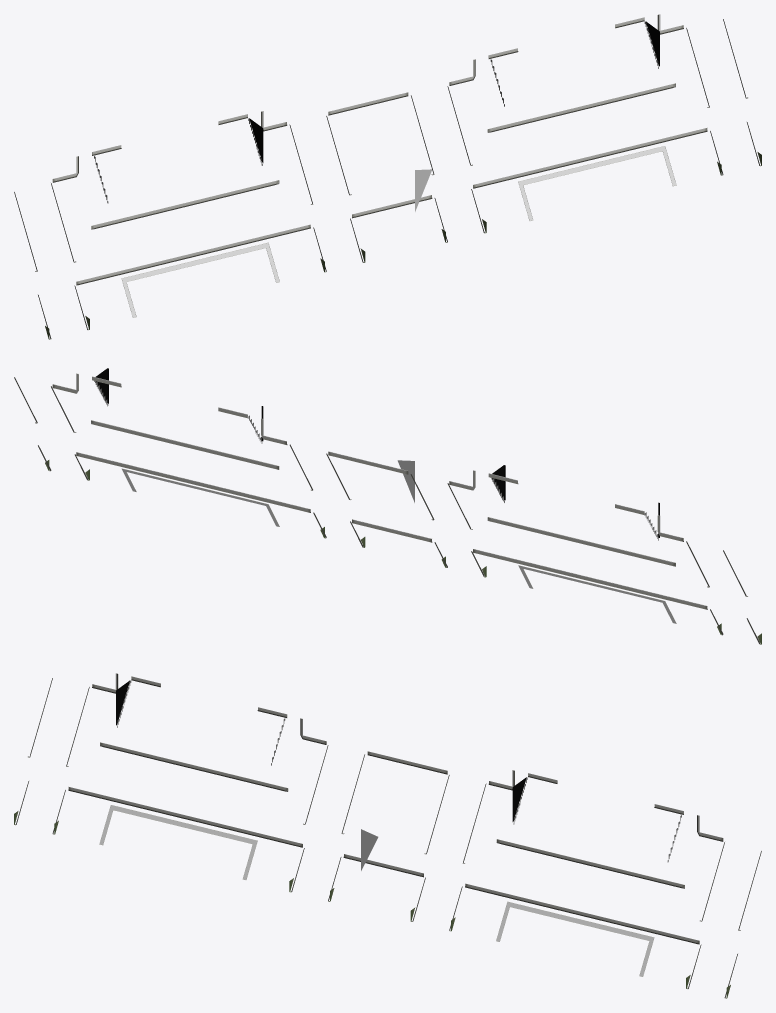
File: SM_000563_merge_concrete01_2.fbx
The picture shows the model from 3 angles, top to bottom: view 1: azimuth 30°, elevation 25°; view 2: azimuth 150°, elevation 25°; view 3: azimuth 330°, elevation 25°; orthographic projection.
Parts seen in each view (by area): view 1: SM_000563.001; view 2: SM_000563.001; view 3: SM_000563.001.
Boxes of the visible parts, <box> form: SM_000563.001: <box>14,14,761,339</box>; SM_000563.001: <box>14,368,761,644</box>; SM_000563.001: <box>14,673,761,998</box>.
Size of the model in its own units: 97.01 by 18.3 by 11.02.
